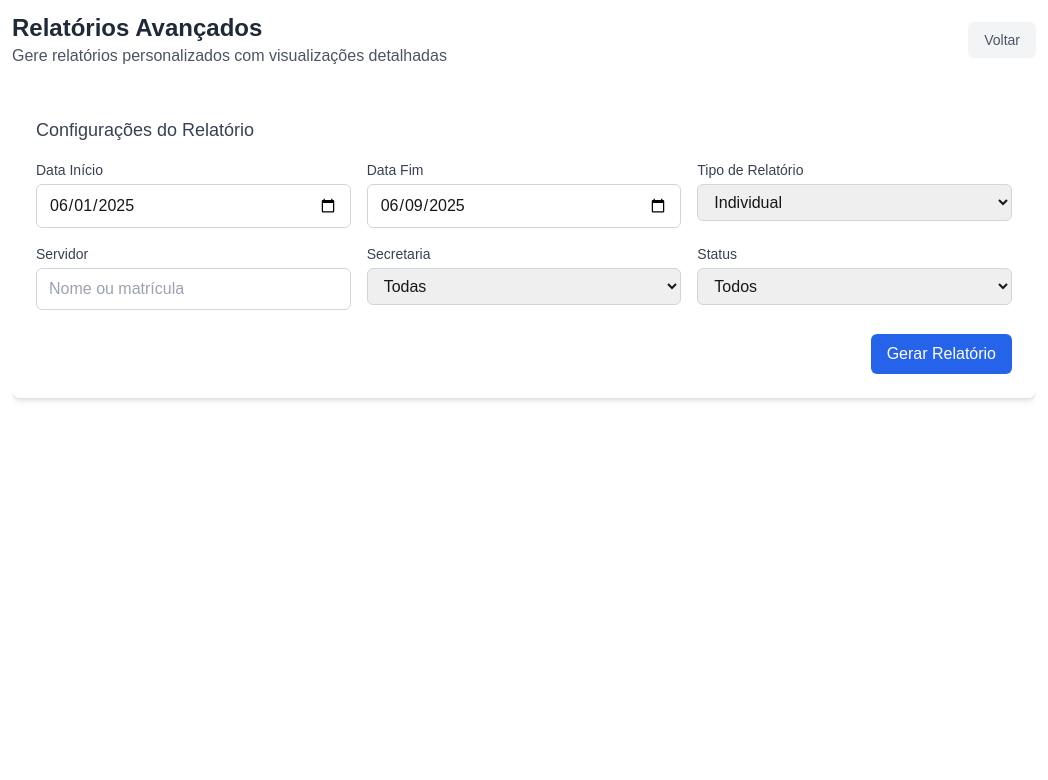
it: RelatoriosPage › gera relatório quando o botão é clicado
The image size is (1048, 780).
Click the button "Gerar Relatório".
click(941, 354)  # box [871,334,1012,374]
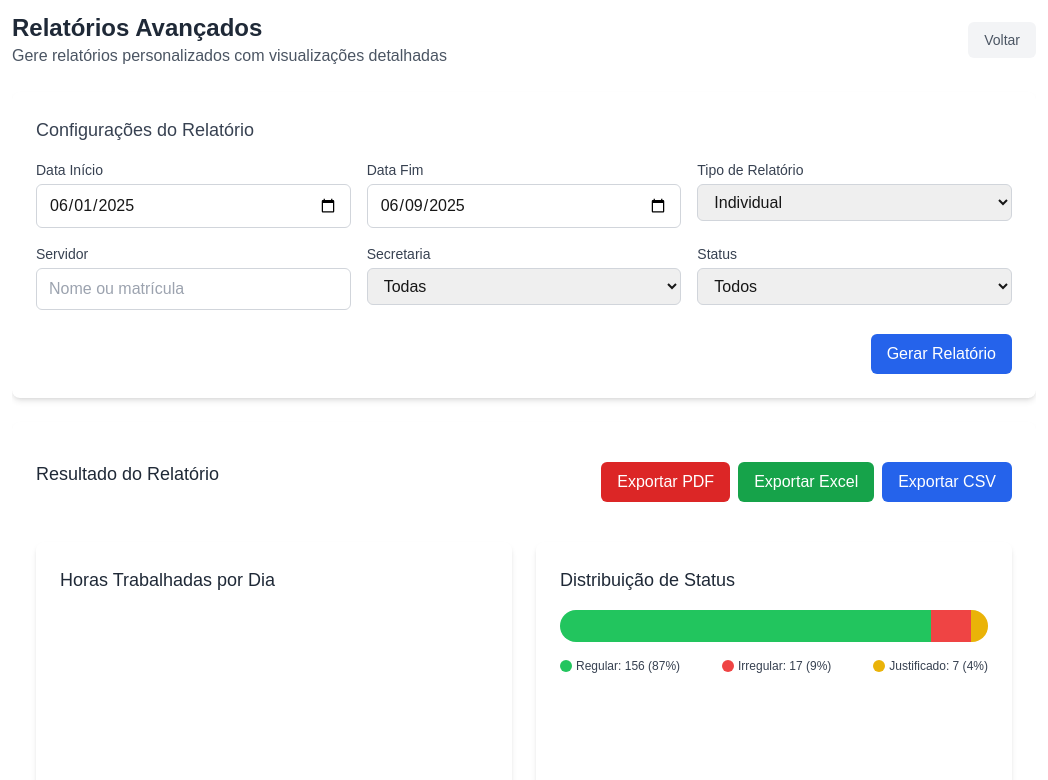
expect the heading "Resultado do Relatório" is shown: met, box [36,460,219,488]
expect the button "Exportar PDF" is shown: met, box [601,462,730,502]
expect the button "Exportar Excel" is shown: met, box [738,462,874,502]
